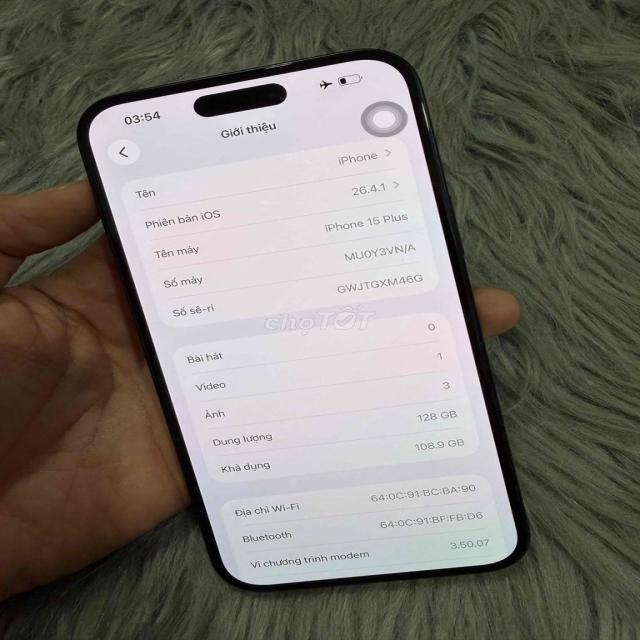gen_15: (85, 43, 536, 585)
